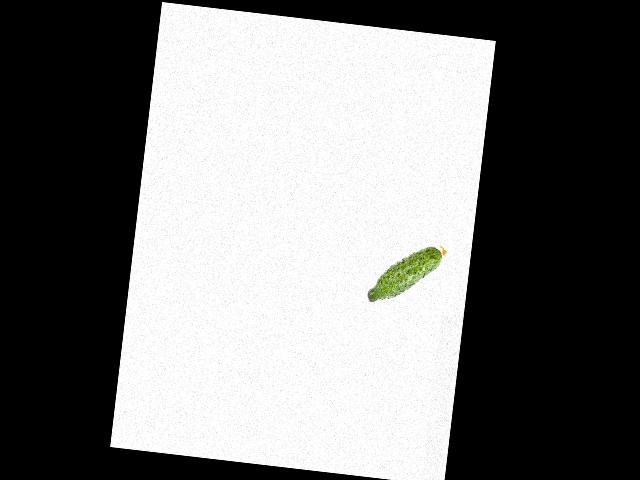cucumber: (367, 238, 447, 310)
